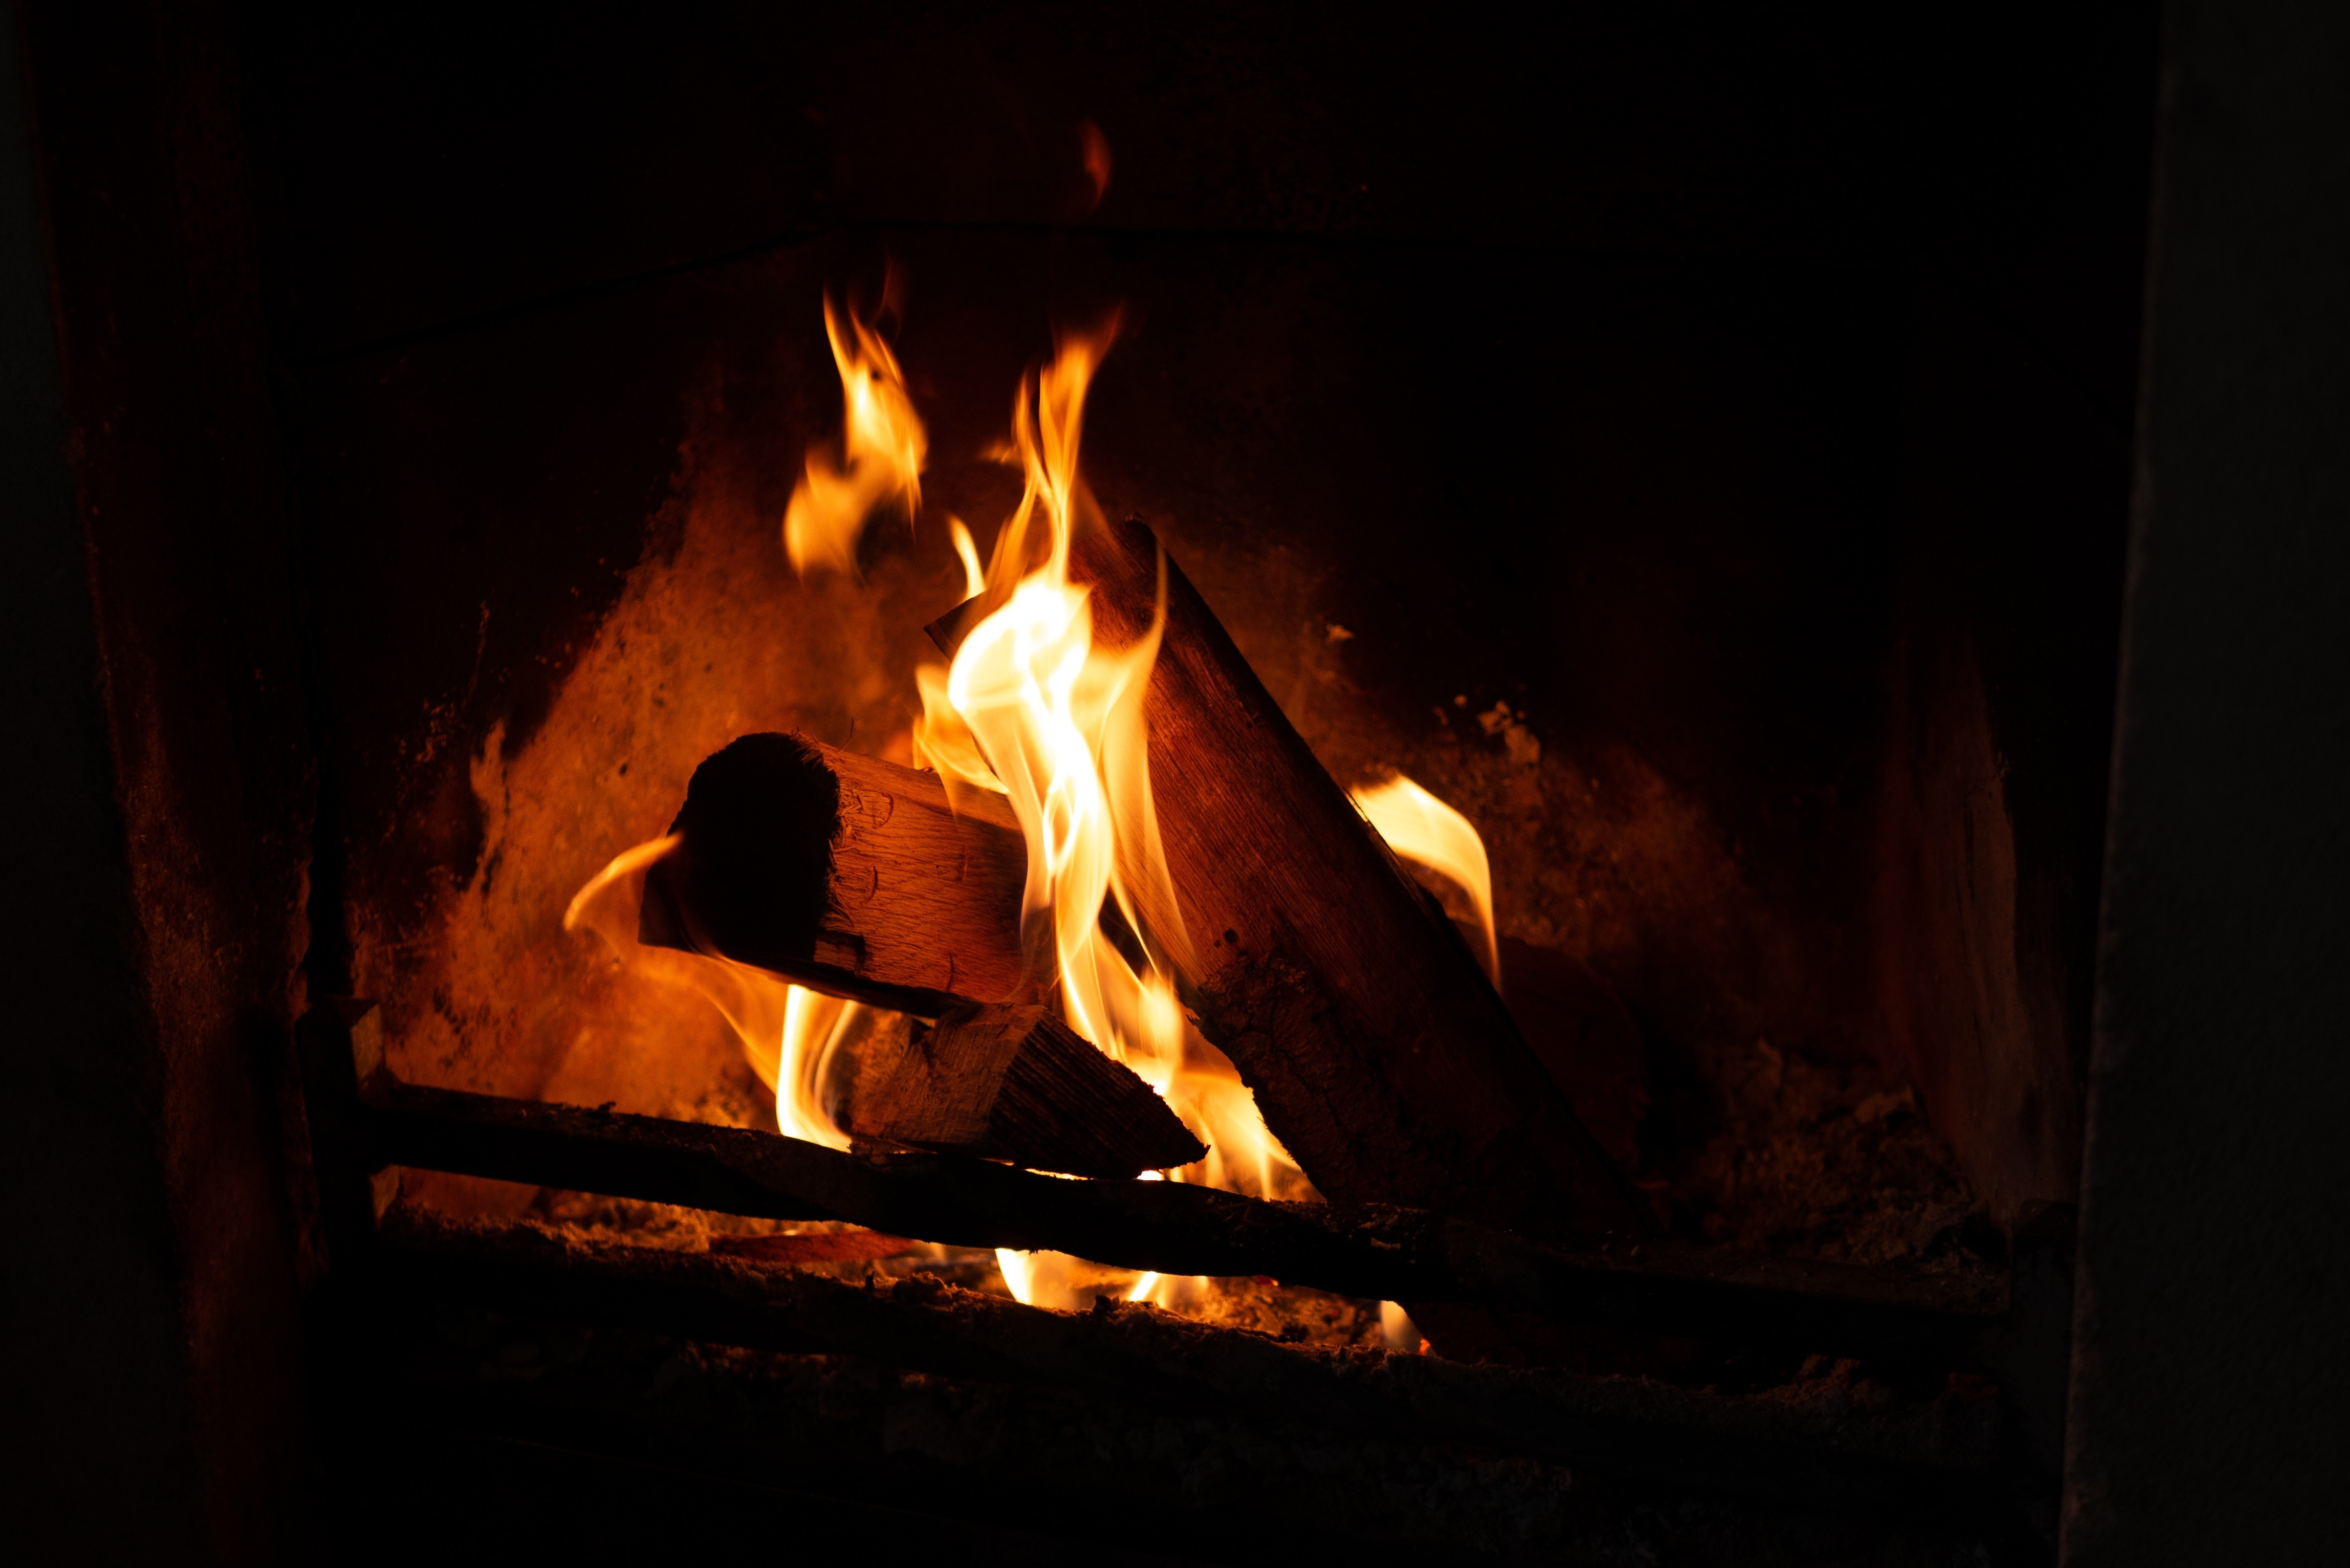fire: (436, 269, 1559, 1279)
